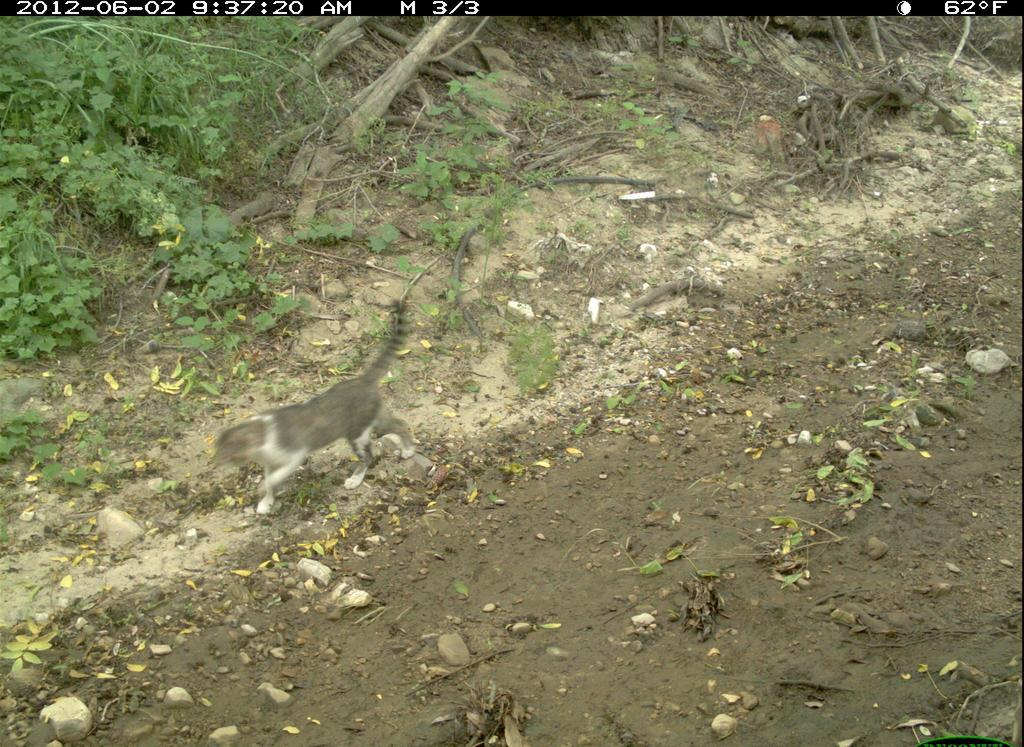cat: (190, 296, 424, 527)
